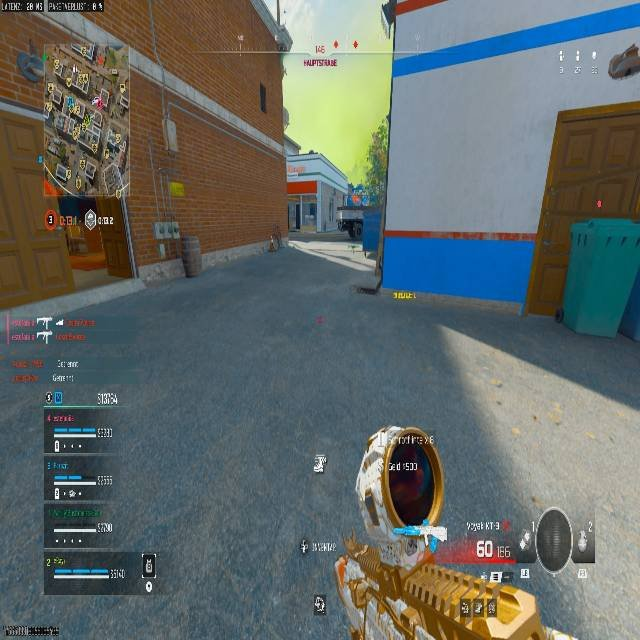head: (357, 425, 444, 524)
